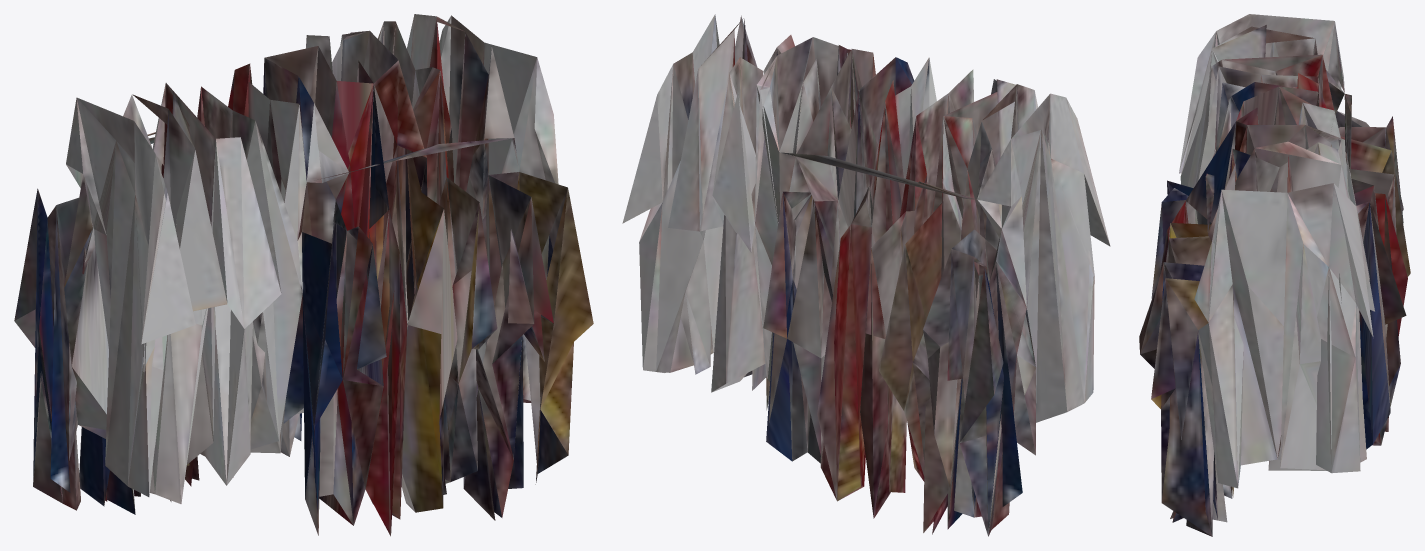
Rendered from clothes.glb.
3 renders of one model, left to right at view 1: azimuth 30°, elevation 25°; view 2: azimuth 150°, elevation 25°; view 3: azimuth 270°, elevation 25°, orthographic. The views are drawn at different scales.
Size of the model in its own units: 1.61 by 1.62 by 1.03.
Materials: 1 (1 with a texture image).
